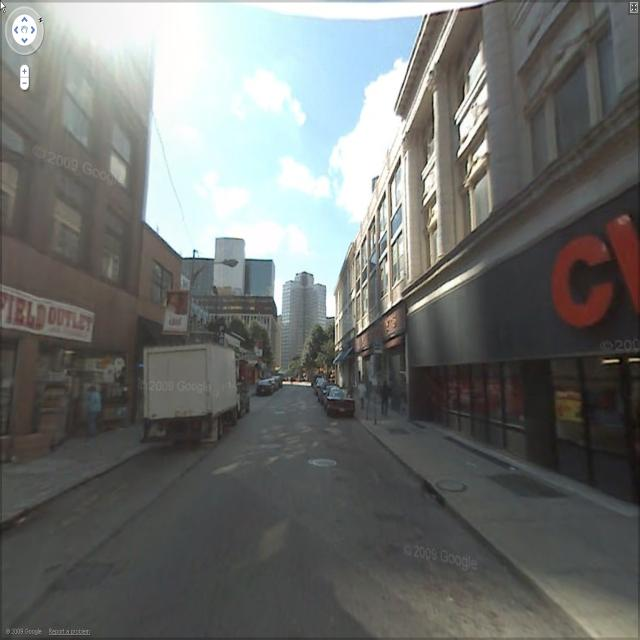b_1: (418, 18, 640, 406), (0, 11, 138, 406), (345, 154, 417, 330), (278, 266, 336, 371), (142, 232, 188, 360), (165, 257, 281, 298), (333, 239, 369, 338), (212, 294, 290, 339), (208, 238, 254, 306)
b_2: (202, 314, 280, 395), (289, 303, 347, 386)
